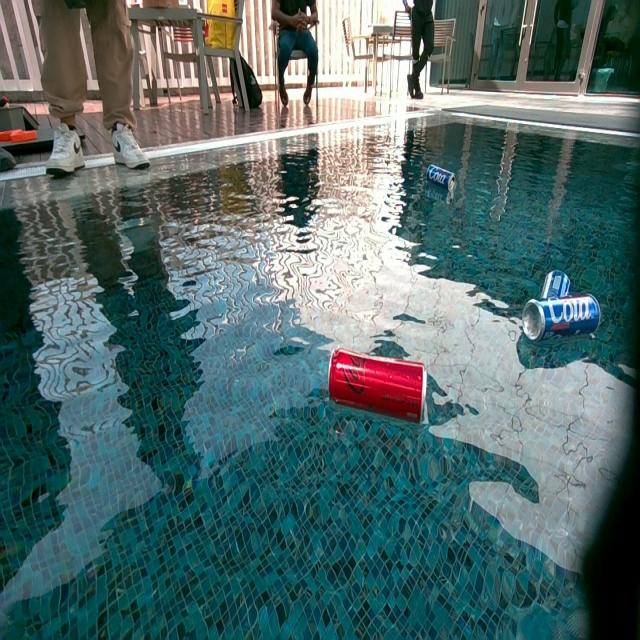Cans: (326, 348, 428, 426), (522, 288, 604, 343), (426, 166, 456, 193), (542, 272, 574, 296)
